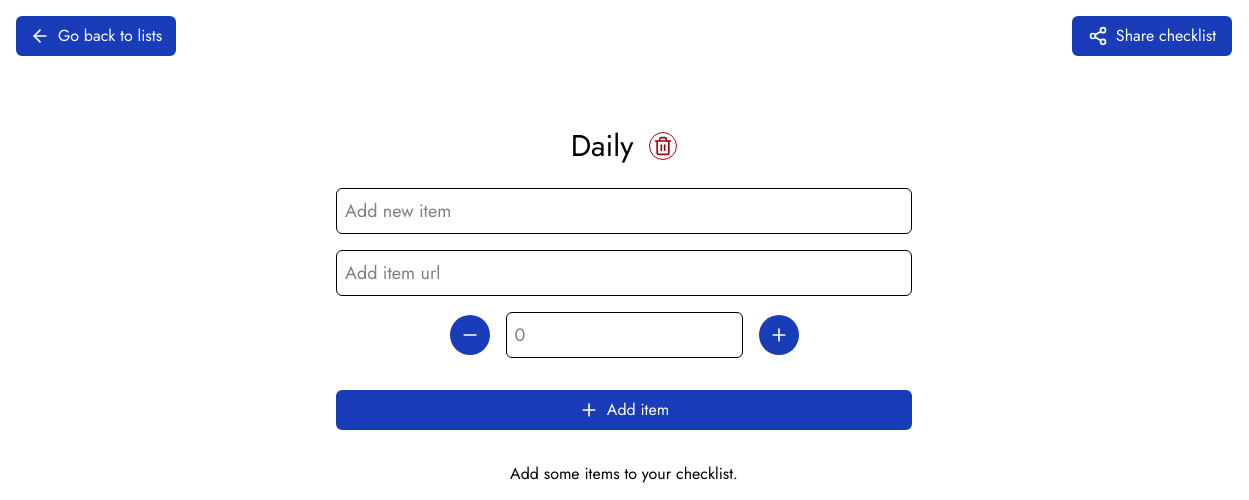
Checklist › sharing the checklist URL › opens the native share dialog when available
expect the heading "Daily" is shown: met, box [571,128,633,164]
Click the button "Share checklist". click: (1152, 36)
box: [1072,16,1232,56]
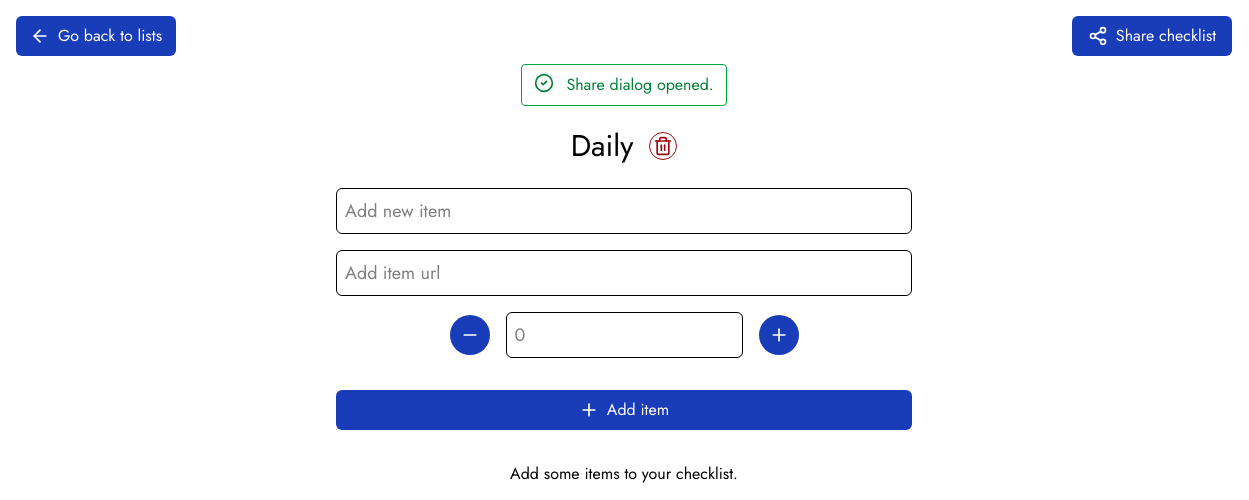
expect the text "Share dialog opened." is shown: met, box [521,64,726,106]
